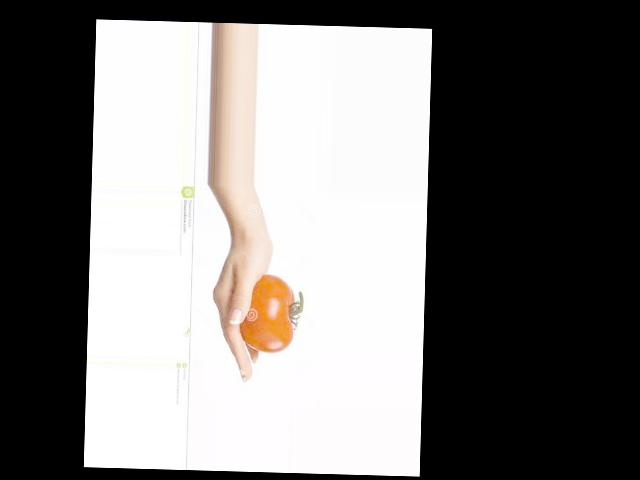tomato: (239, 273, 295, 353)
